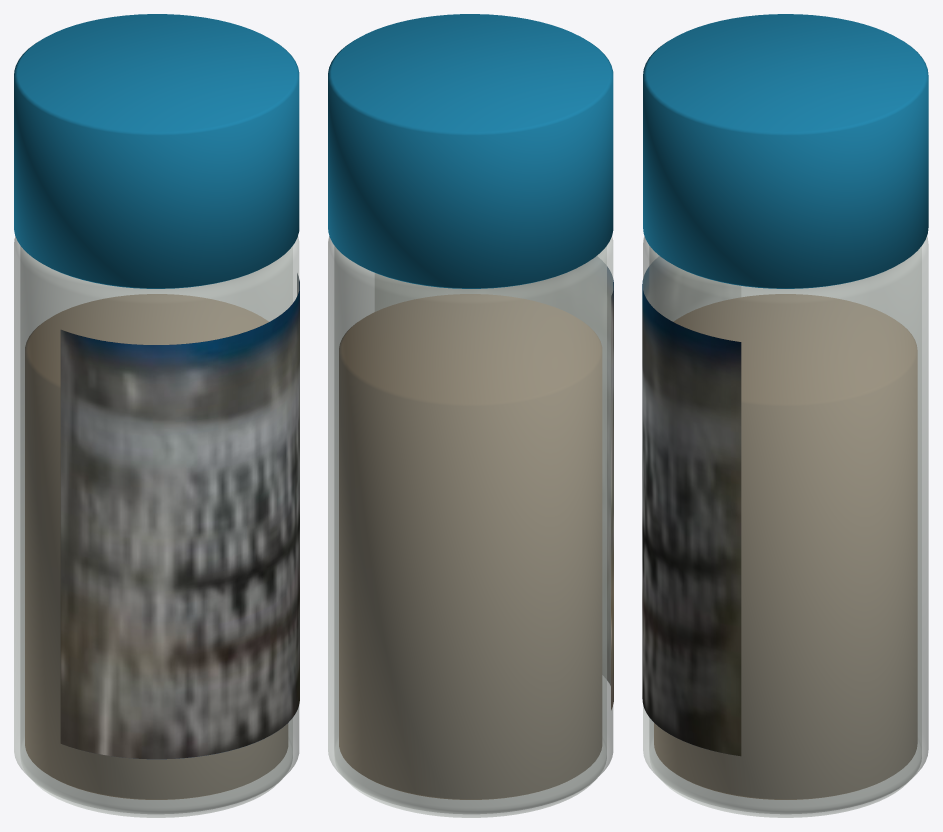
File: pantry_contents__spice_grinder.glb
3 views of the same model, side by side, from view 1: azimuth 30°, elevation 25°; view 2: azimuth 150°, elevation 25°; view 3: azimuth 270°, elevation 25° (orthographic).
Parts seen in each view (by area): view 1: spice_grinder__body, spice_grinder__cap; view 2: spice_grinder__body, spice_grinder__cap; view 3: spice_grinder__body, spice_grinder__cap.
Part boxes in pixels (x1,y1,x2,y2): spice_grinder__body: [14, 236, 299, 817]; spice_grinder__cap: [14, 14, 299, 288]; spice_grinder__body: [328, 236, 613, 817]; spice_grinder__cap: [328, 14, 613, 288]; spice_grinder__body: [642, 236, 928, 817]; spice_grinder__cap: [643, 14, 928, 288].
Bounding box in the file's own units: 0.0618 × 0.1647 × 0.0619.
4 materials, 1 textured.
